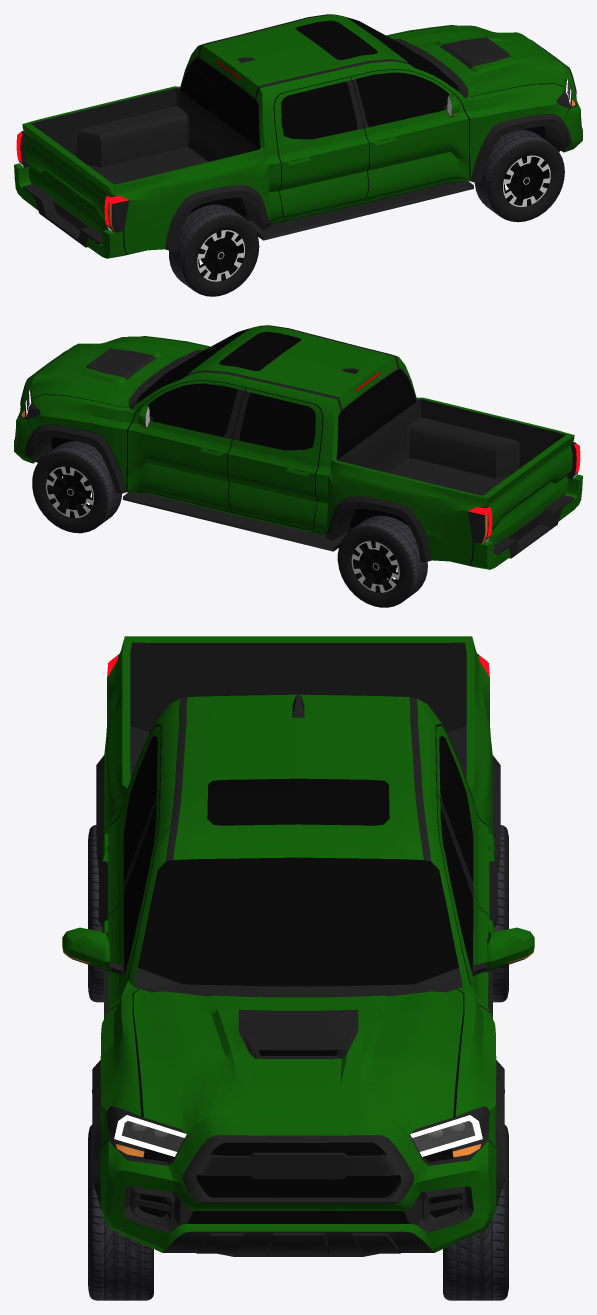
The model's file is toyota_tacoma_trd.glb.
3 views of the same model, one above another, from view 1: azimuth 30°, elevation 25°; view 2: azimuth 150°, elevation 25°; view 3: azimuth 270°, elevation 25° (orthographic). The views are drawn at different scales.
Visible parts, largest first — view 1: body, rr_tire, fr_tire, rr_rim, fr_rim; view 2: body, rl_tire, fl_tire, rl_rim, fl_rim; view 3: body, fl_tire, fr_tire, rl_tire, rr_tire.
Part boxes in pixels (x1,y1,x2,y2): body: (14, 14, 582, 258); rr_tire: (169, 204, 259, 296); fr_tire: (474, 130, 564, 222); rr_rim: (197, 230, 244, 281); fr_rim: (502, 155, 550, 206); body: (14, 325, 582, 569); rl_tire: (337, 515, 427, 607); fl_tire: (32, 441, 121, 533); rl_rim: (351, 541, 399, 592); fl_rim: (46, 466, 94, 518); body: (62, 636, 534, 1256); fl_tire: (443, 1125, 508, 1300); fr_tire: (88, 1125, 153, 1300); rl_tire: (493, 825, 508, 1002); rr_tire: (88, 825, 103, 1002).
Size of the model in its own units: 3.21 by 1.14 by 1.34.
Materials: 15 (1 with a texture image).
